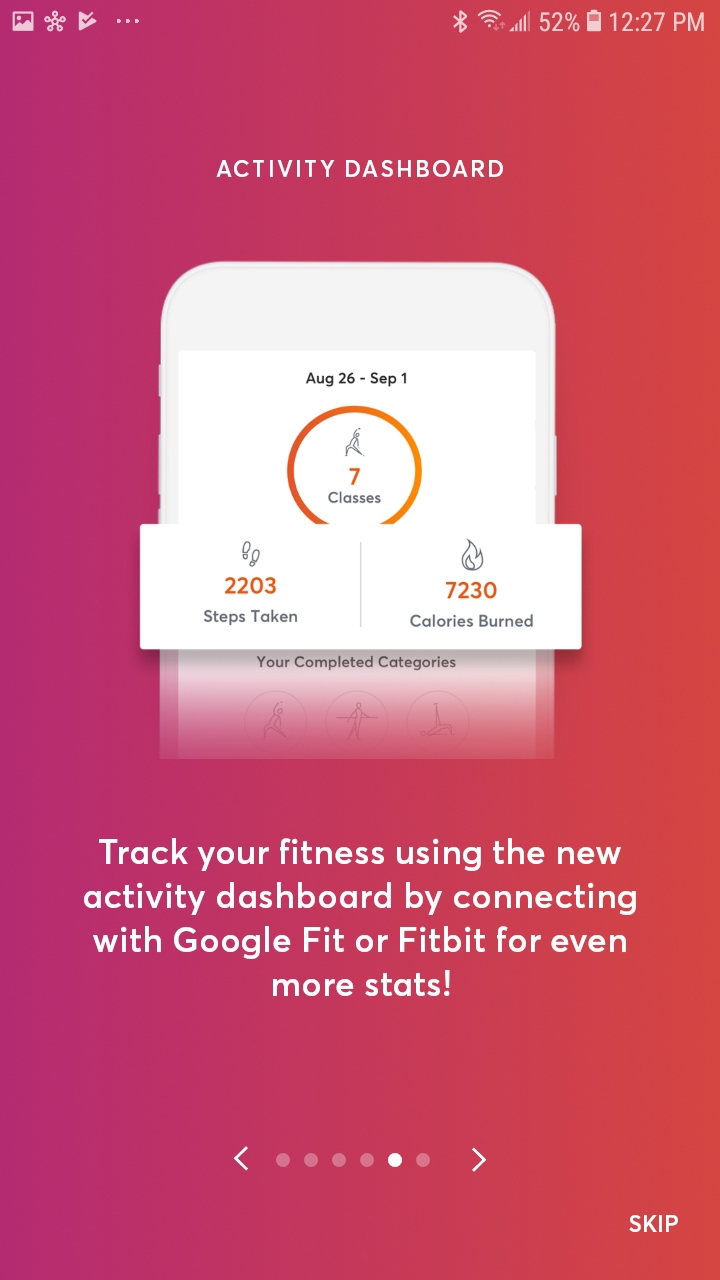Icon: (471, 1147, 487, 1173), (234, 1146, 249, 1171)
Image: (140, 261, 583, 761)
PageIndicator: (275, 1152, 431, 1169)
Text: (84, 838, 637, 998), (216, 160, 504, 179), (629, 1214, 678, 1232)
UpperTaskBar: (1, 1, 720, 36)
